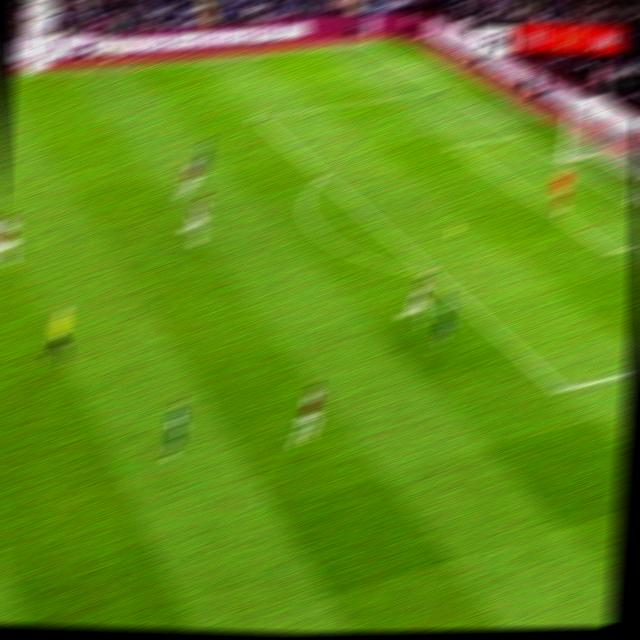bigarea_bottom_inner: (551, 382, 571, 397)
bigarea_top_inner: (247, 109, 267, 125)
bigarea_top_outter: (434, 86, 451, 94)
bottom_arc_area_intersection: (419, 268, 435, 276)
corner: (361, 44, 375, 48)
smallarea_bottom_inner: (604, 245, 624, 257)
smallarea_top_inner: (446, 142, 464, 152)
smallarea_top_outter: (511, 131, 527, 142)
top_arc_area_intersection: (314, 172, 332, 183)
